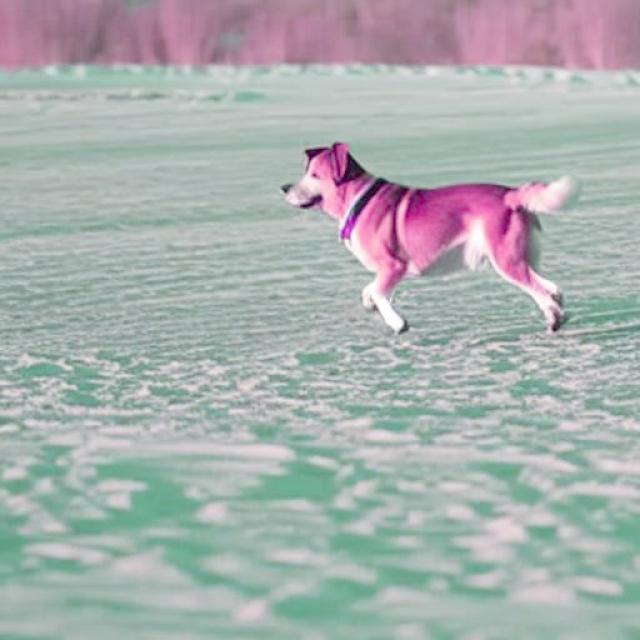Dog: (278, 141, 582, 336)
